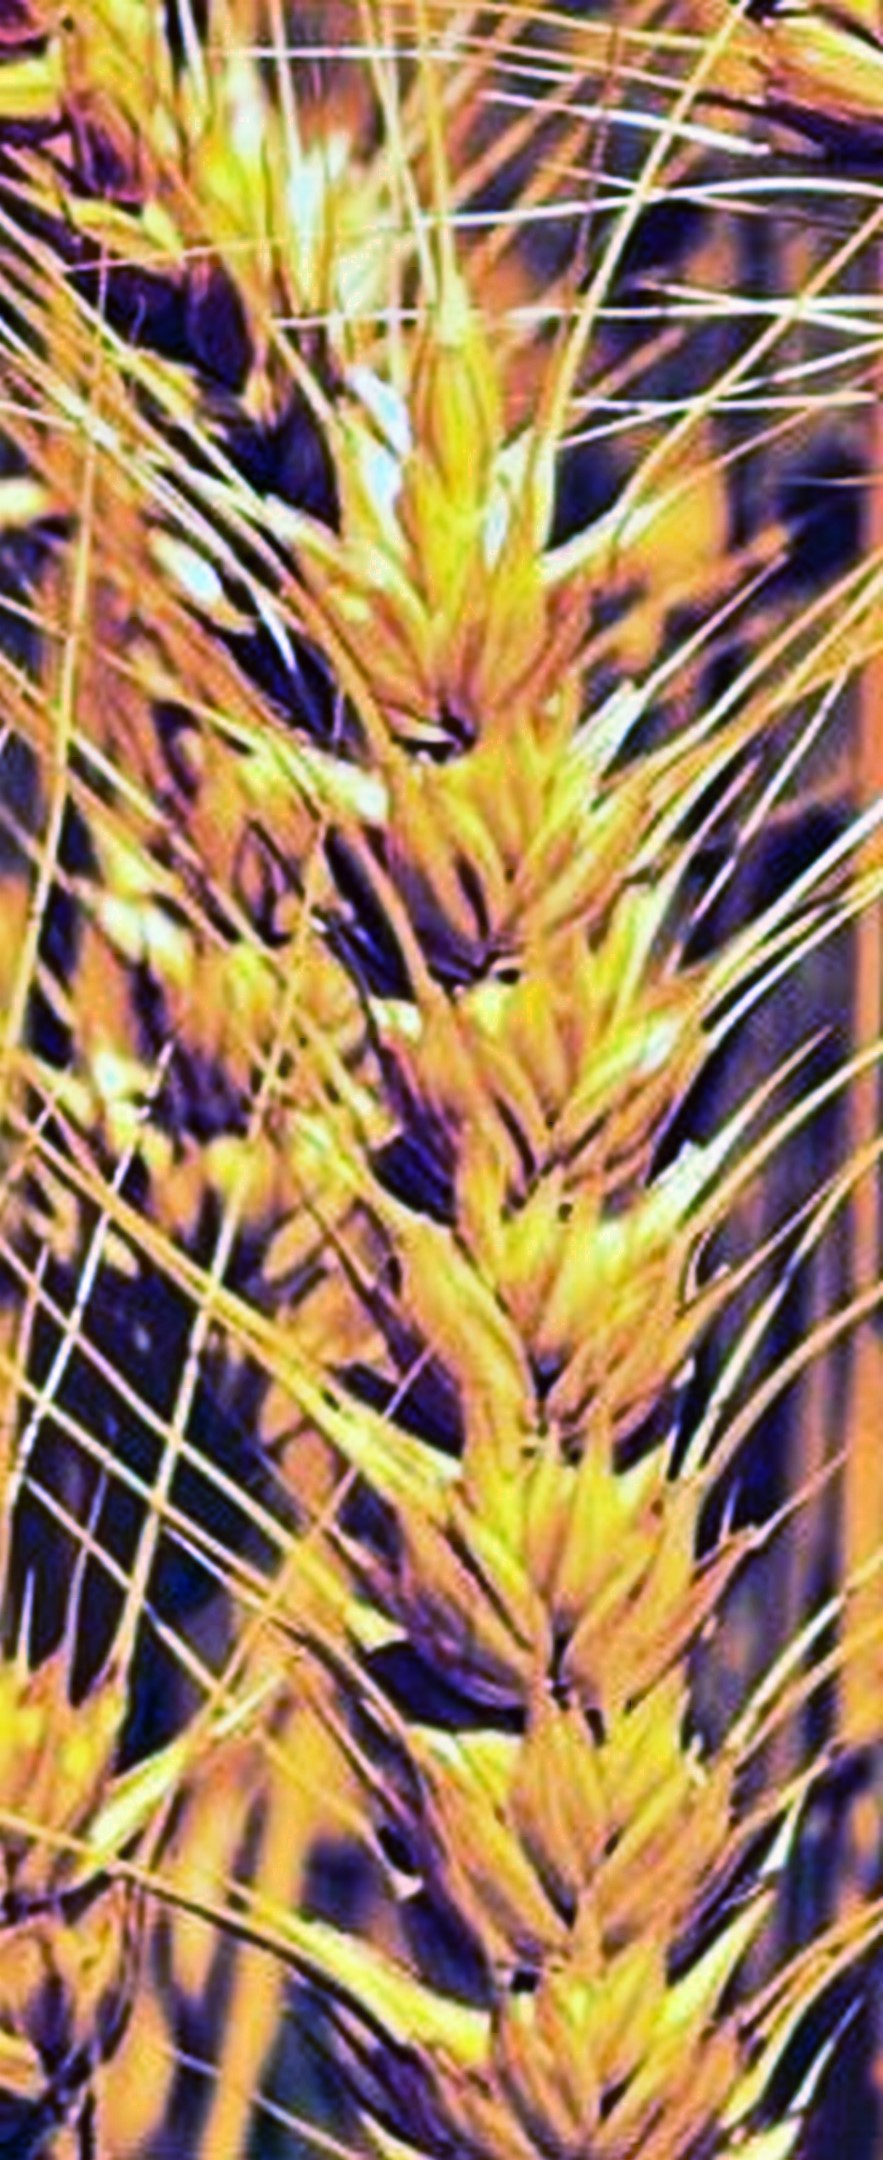Healthy Wheat: (326, 382, 842, 2094)
